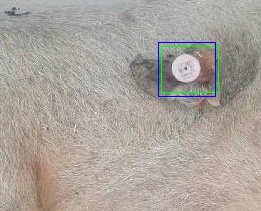text: (161, 46, 218, 92)
